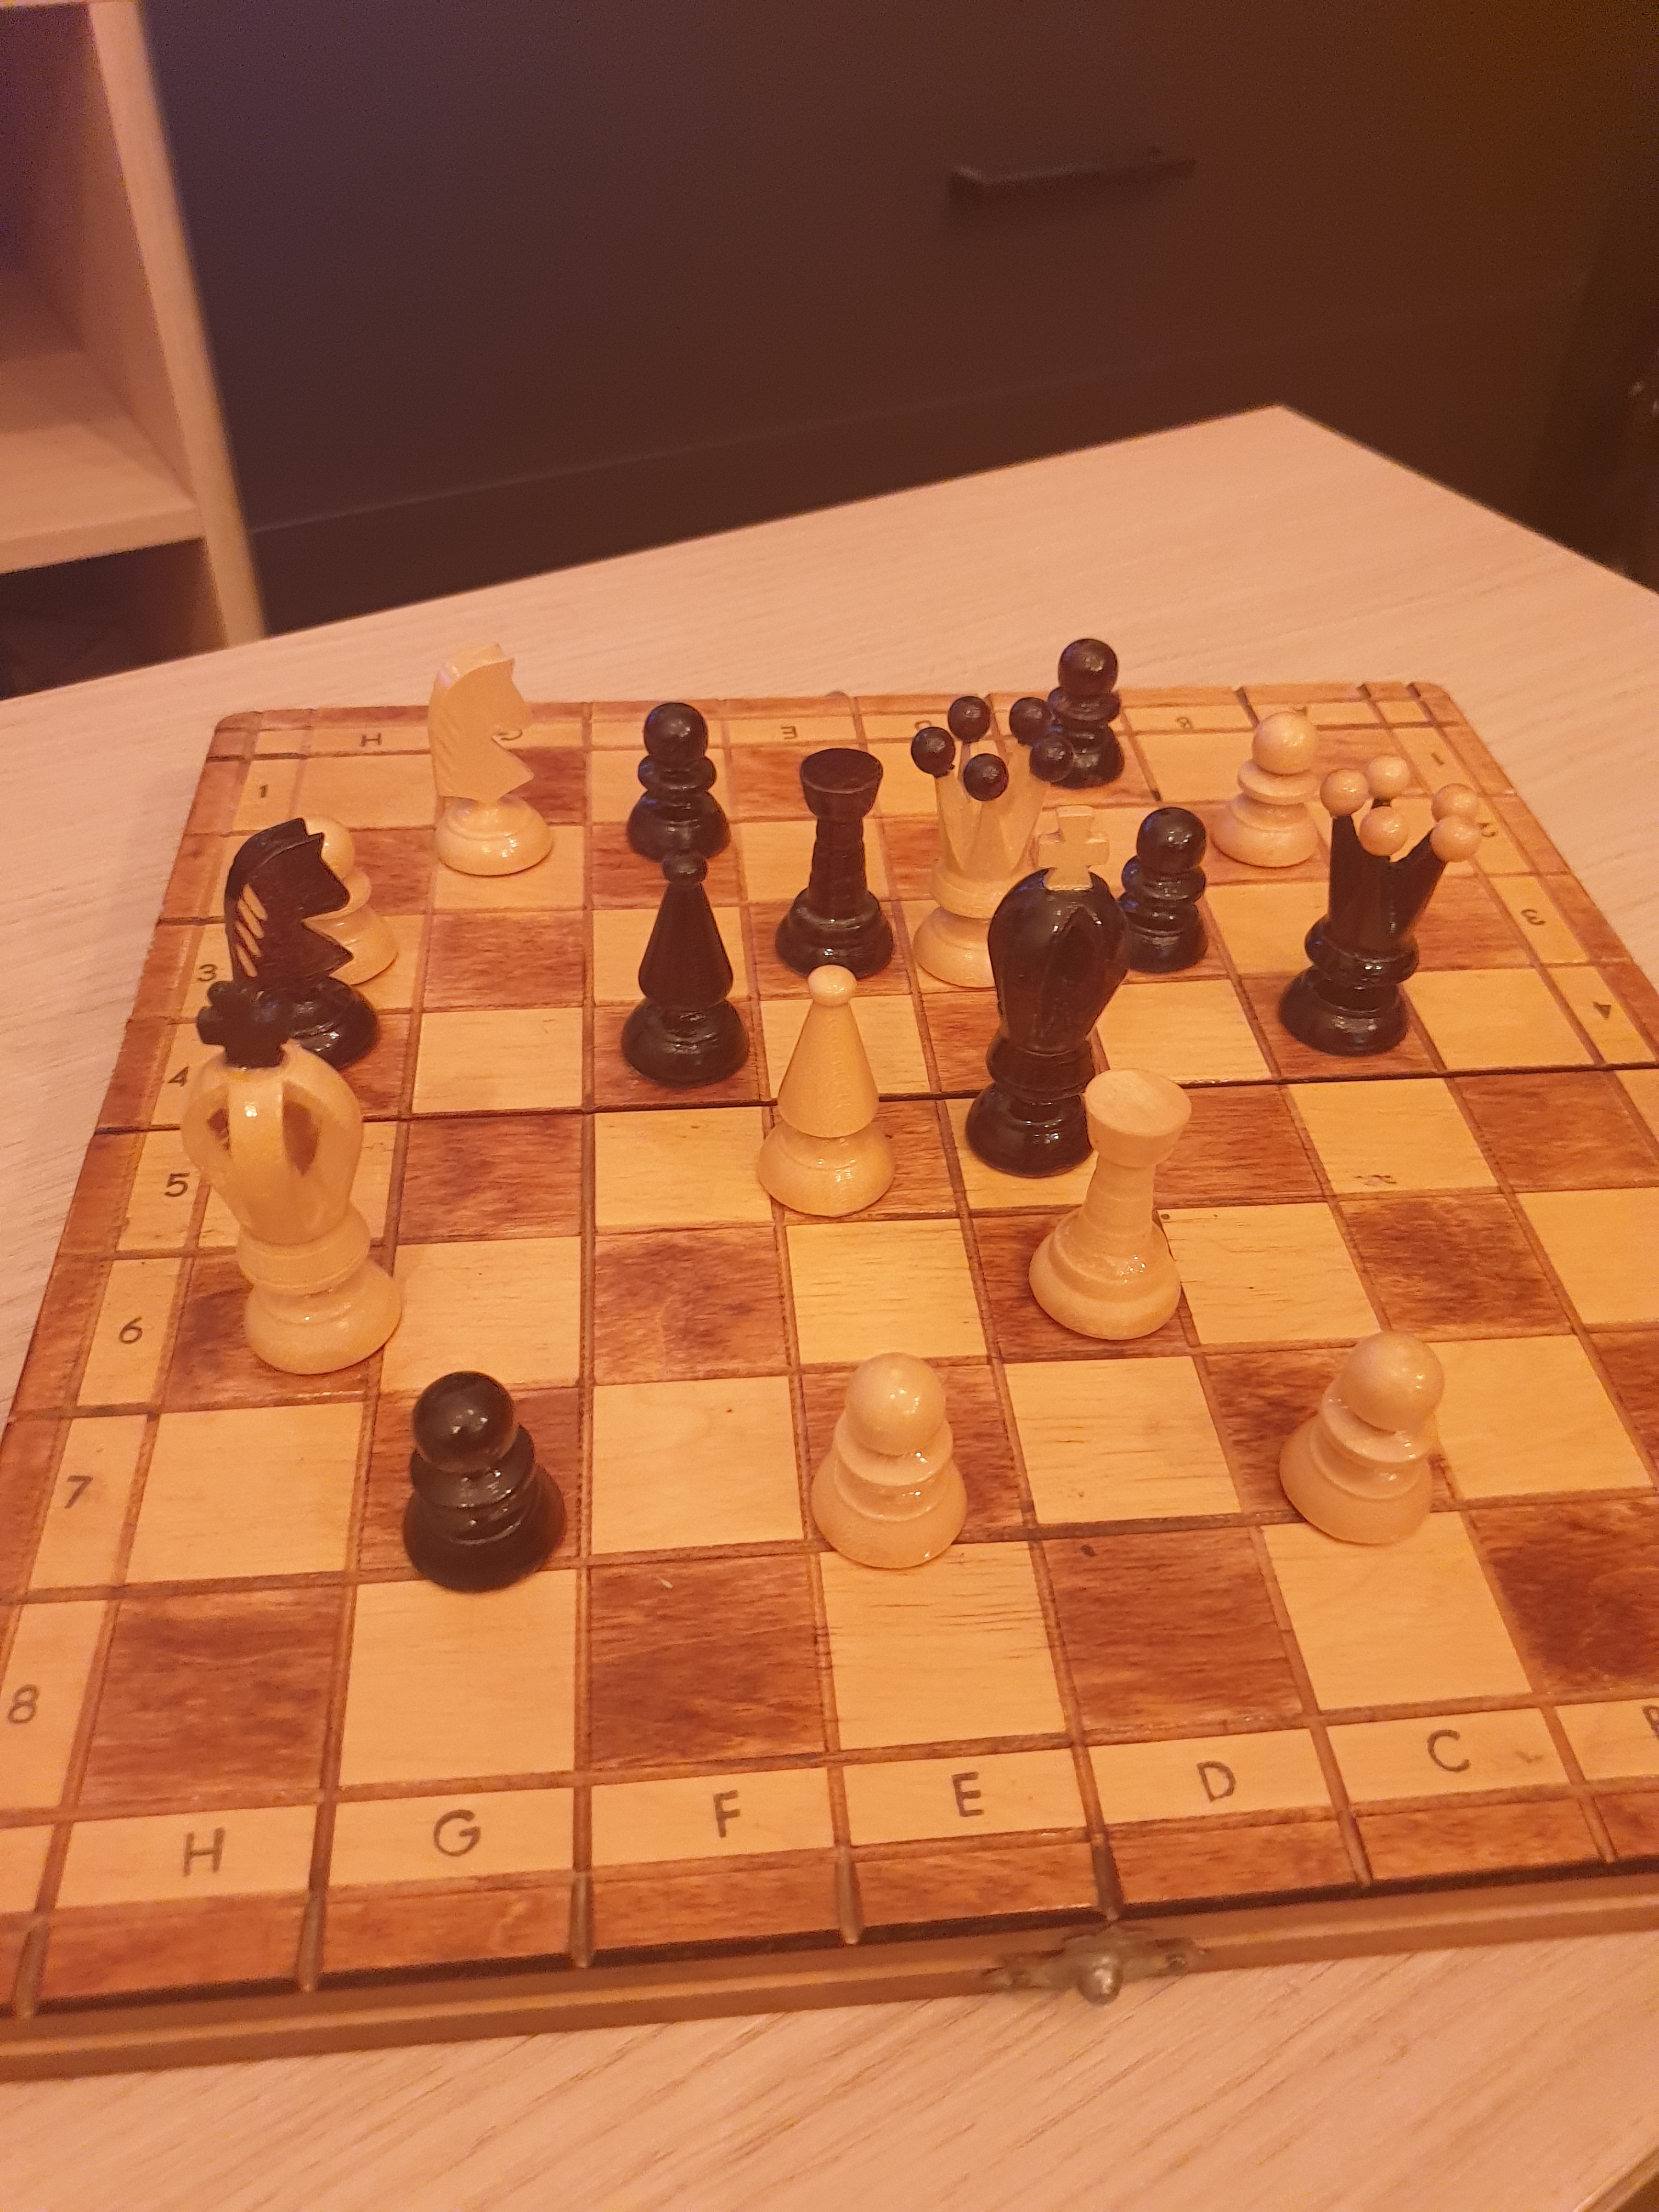bbishop: (610, 838, 760, 1104)
bking: (957, 796, 1148, 1186)
bknight: (218, 812, 390, 1085)
bpawn: (390, 1353, 580, 1609), (615, 683, 749, 878), (1101, 792, 1220, 1001), (1032, 627, 1138, 805)
bqueen: (1258, 745, 1493, 1078)
brook: (763, 740, 924, 998)
wbishop: (748, 953, 918, 1240)
wking: (167, 967, 427, 1390)
wknight: (418, 637, 565, 885)
wpawn: (786, 1315, 985, 1588), (1258, 1310, 1467, 1569), (265, 801, 411, 1005), (1190, 693, 1333, 885)
wqueen: (894, 678, 1080, 1012)
wrook: (1019, 1061, 1209, 1353)
